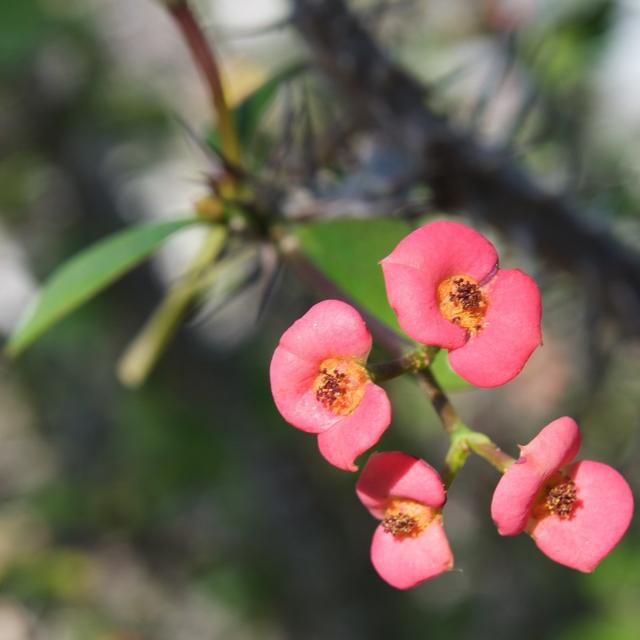Flower: (377, 228, 537, 390), (491, 416, 634, 576), (272, 294, 406, 462), (352, 453, 452, 587)
